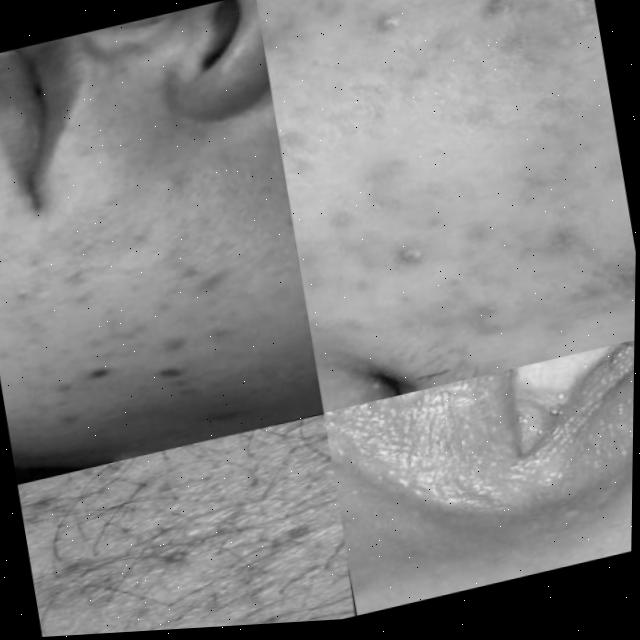Acne: (297, 0, 640, 336), (378, 325, 635, 544), (0, 235, 209, 423), (54, 469, 244, 634)
